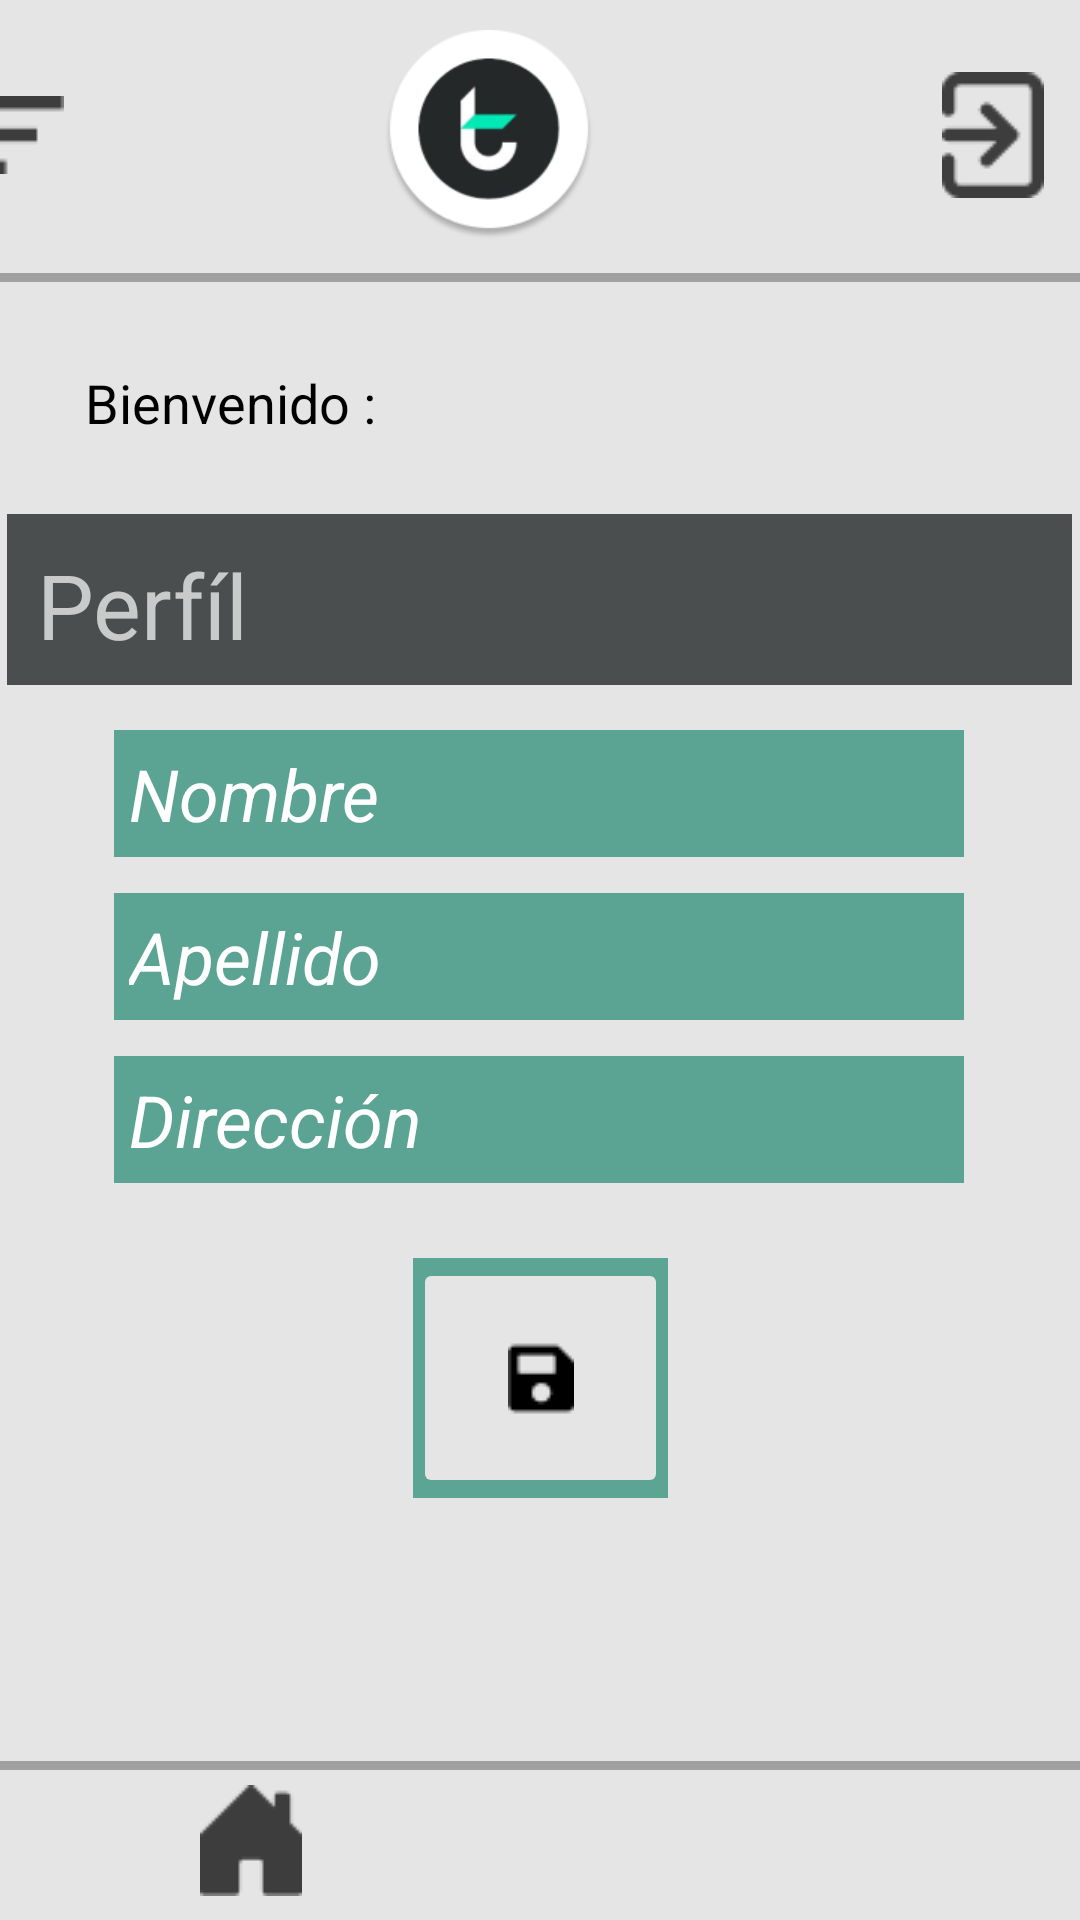

Point at icon controls on the screen. Image size 1080 x 1920, points as [x,y].
save: [540,1378]
